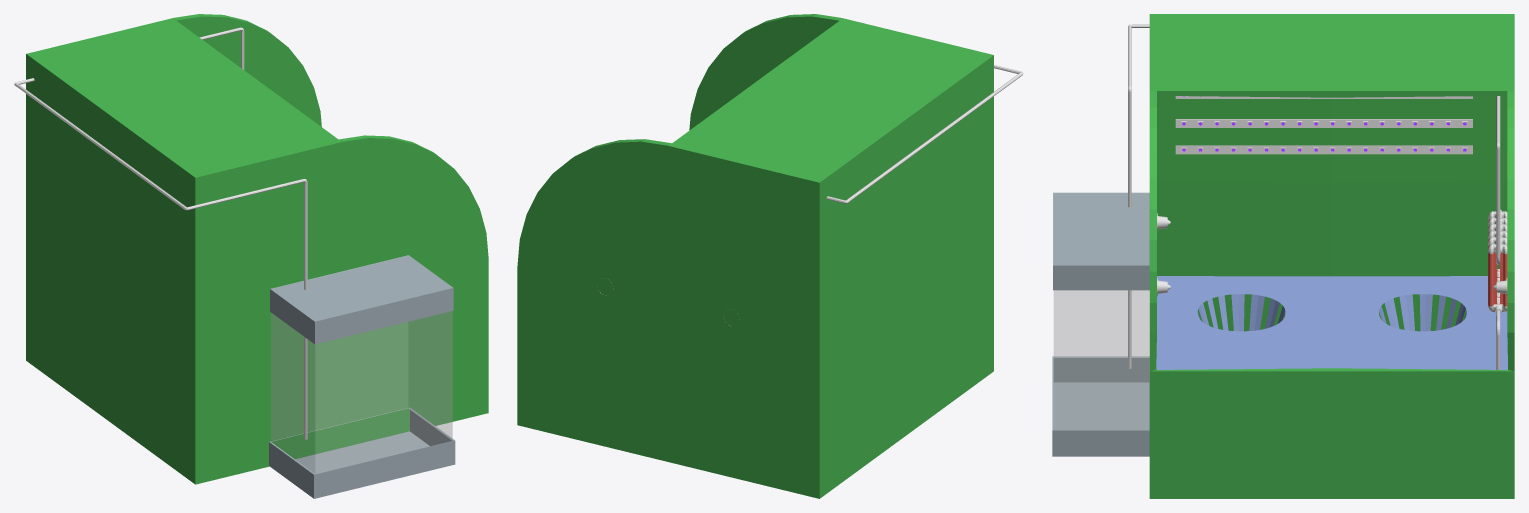
The model's file is smartSprout.glb.
The picture shows the model from 3 angles, left to right: view 1: azimuth 30°, elevation 25°; view 2: azimuth 150°, elevation 25°; view 3: azimuth 270°, elevation 25°; orthographic projection. The views are drawn at different scales.
Parts seen in each view (by area): view 1: Box, Water Tank, Heater; view 2: Box, Heater; view 3: Box, Hydroponic Rack, Water Tank, Heater, LED Streifen.002, LED Streifen.001, LED Streifen.
Boxes of the visible parts, x1,y1,x2,y2 form: Box: (26, 14, 488, 484); Water Tank: (269, 255, 455, 498); Heater: (14, 27, 307, 439); Box: (517, 14, 993, 498); Heater: (826, 65, 1023, 203); Box: (1149, 14, 1514, 498); Hydroponic Rack: (1156, 276, 1507, 369); Water Tank: (1052, 192, 1149, 456); Heater: (1128, 24, 1507, 369); LED Streifen.002: (1175, 145, 1472, 154); LED Streifen.001: (1175, 119, 1472, 127); LED Streifen: (1175, 96, 1472, 98).
Bounding box in the file's own units: 0.8542 × 0.8001 × 1.01.
